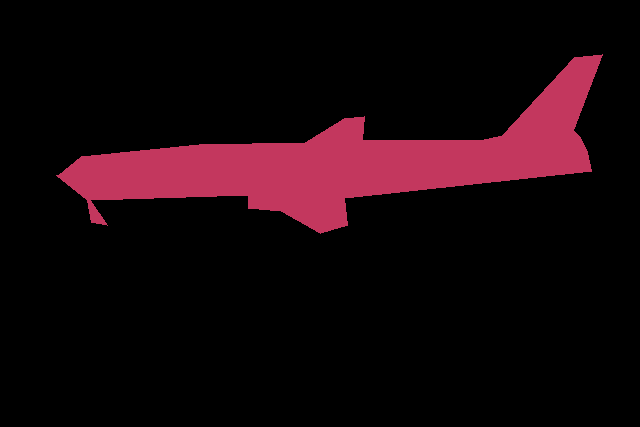Airplane: (56, 54, 602, 234)
